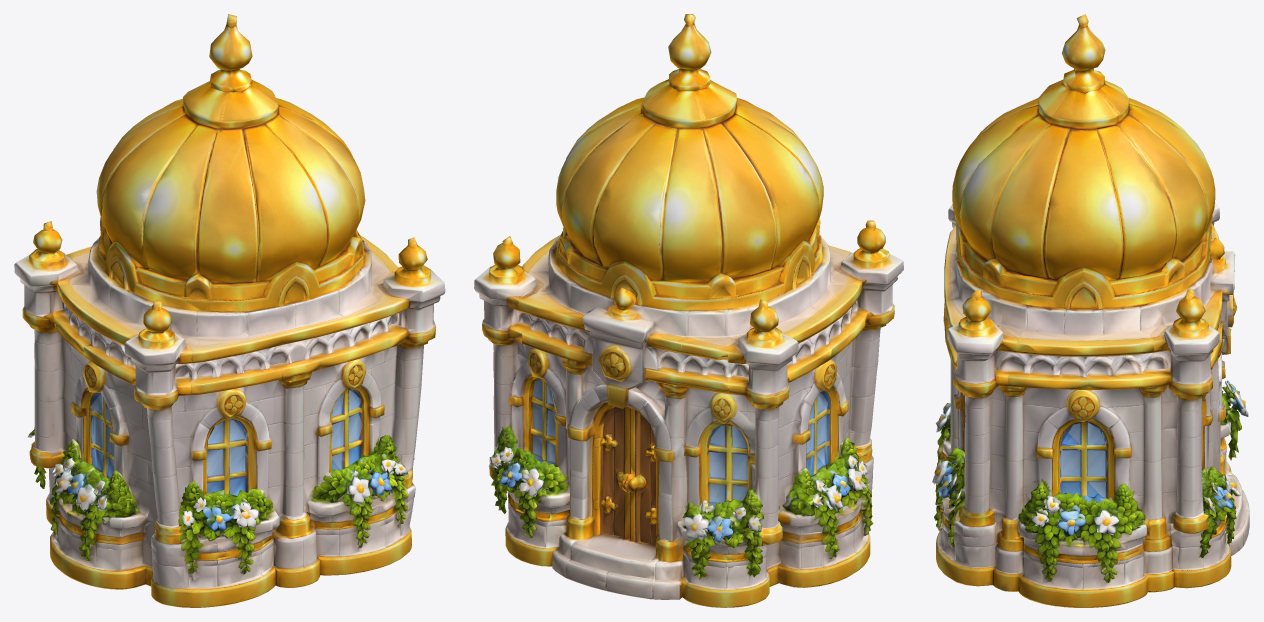
File: HaloDomeHouse_04_parts.glb
3 renders of one model, left to right at view 1: azimuth 30°, elevation 25°; view 2: azimuth 150°, elevation 25°; view 3: azimuth 270°, elevation 25°, orthographic.
Parts seen in each view (by area): view 1: HaloDomeHouse_04_Body_t01, HaloDomeHouse_04_Body_t10, HaloDomeHouse_04_Body_t00, HaloDomeHouse_04_Body_t11, HaloDomeHouse_04_Glass, HaloDomeHouse_04_WinPane; view 2: HaloDomeHouse_04_Body_t01, HaloDomeHouse_04_Body_t00, HaloDomeHouse_04_Body_t10, HaloDomeHouse_04_Body_t11, HaloDomeHouse_04_Door, HaloDomeHouse_04_Glass, HaloDomeHouse_04_WinPane, HaloDomeHouse_04_DoorHw; view 3: HaloDomeHouse_04_Body_t10, HaloDomeHouse_04_Body_t00, HaloDomeHouse_04_Body_t11, HaloDomeHouse_04_Body_t01, HaloDomeHouse_04_WinPane, HaloDomeHouse_04_Glass.
Boxes of the visible parts, <box> form: HaloDomeHouse_04_Body_t01: <box>28,14,427,607</box>; HaloDomeHouse_04_Body_t10: <box>17,31,440,605</box>; HaloDomeHouse_04_Body_t00: <box>30,69,445,572</box>; HaloDomeHouse_04_Body_t11: <box>14,105,426,607</box>; HaloDomeHouse_04_Glass: <box>89,390,362,476</box>; HaloDomeHouse_04_WinPane: <box>89,390,363,476</box>; HaloDomeHouse_04_Body_t01: <box>488,14,894,587</box>; HaloDomeHouse_04_Body_t00: <box>489,68,903,600</box>; HaloDomeHouse_04_Body_t10: <box>474,14,897,566</box>; HaloDomeHouse_04_Body_t11: <box>476,120,872,607</box>; HaloDomeHouse_04_Door: <box>569,402,684,548</box>; HaloDomeHouse_04_Glass: <box>532,379,827,502</box>; HaloDomeHouse_04_WinPane: <box>533,380,828,502</box>; HaloDomeHouse_04_DoorHw: <box>590,403,659,542</box>; HaloDomeHouse_04_Body_t10: <box>934,14,1241,595</box>; HaloDomeHouse_04_Body_t00: <box>932,68,1249,606</box>; HaloDomeHouse_04_Body_t11: <box>936,105,1240,588</box>; HaloDomeHouse_04_Body_t01: <box>936,14,1248,607</box>; HaloDomeHouse_04_WinPane: <box>1059,422,1108,497</box>; HaloDomeHouse_04_Glass: <box>1059,422,1107,497</box>.
Size of the model in its own units: 19.68 by 28.82 by 16.2.
8 materials, 7 textured.
